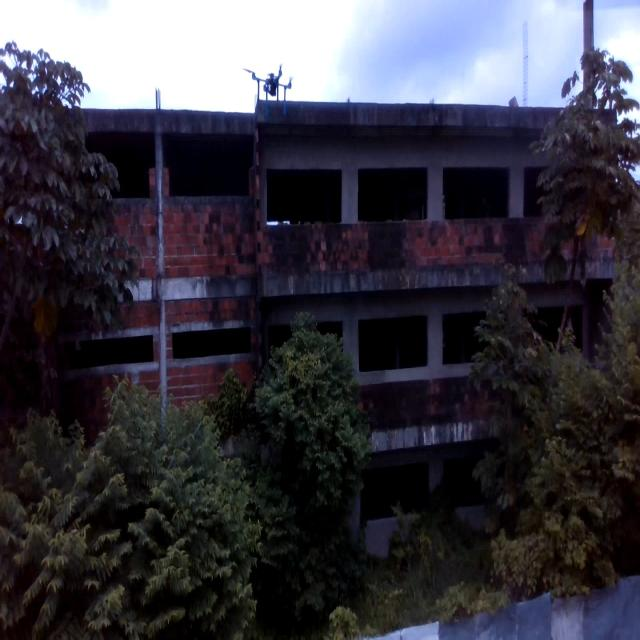-uav-: (241, 39, 304, 139)
